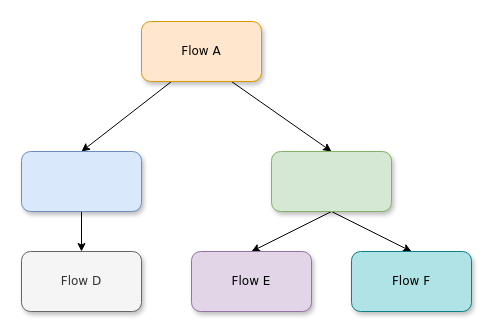
Some shapes in this 495 by 336 pixel diagram are drawn without their labels. The shapes that lost their labels are listed below. From the top down, each one's centre as x and y in pixels, then its label:
At (82,182): "Flow B".
At (332,182): "Flow C".
